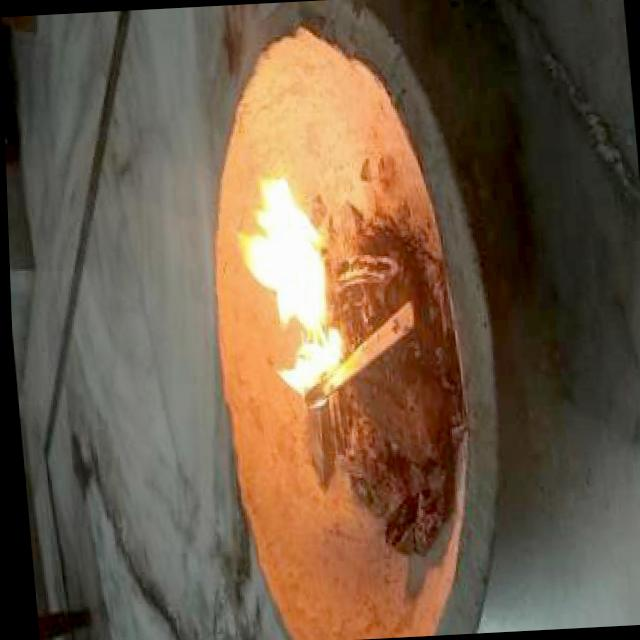helmet: (217, 168, 351, 424)
